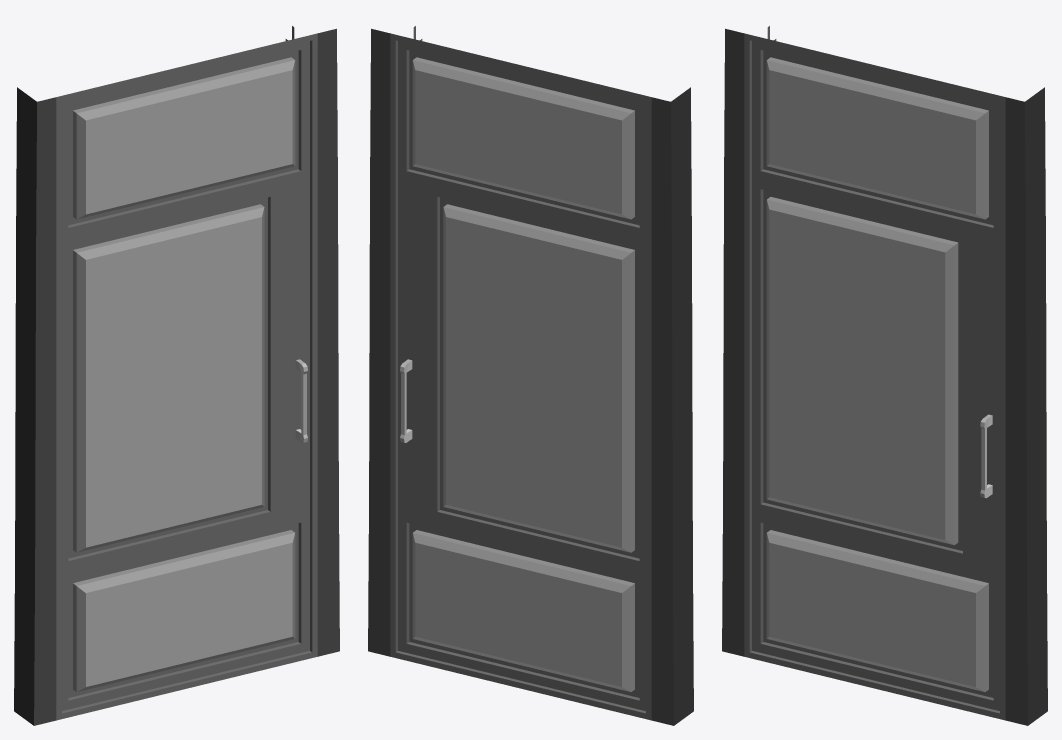
Rendered from toiled_enter_door.glb.
The picture shows the model from 3 angles, left to right: view 1: azimuth 30°, elevation 25°; view 2: azimuth 150°, elevation 25°; view 3: azimuth 330°, elevation 25°; orthographic projection.
Parts seen in each view (by area): view 1: active_level.002; view 2: active_level.002; view 3: active_level.002.
Part boxes in pixels (x1,y1,x2,y2): active_level.002: [14, 26, 339, 725]; active_level.002: [368, 26, 693, 725]; active_level.002: [722, 26, 1047, 725].
Bounding box in the file's own units: 2.11 × 4.12 × 0.3779.
1 material, 1 textured.
